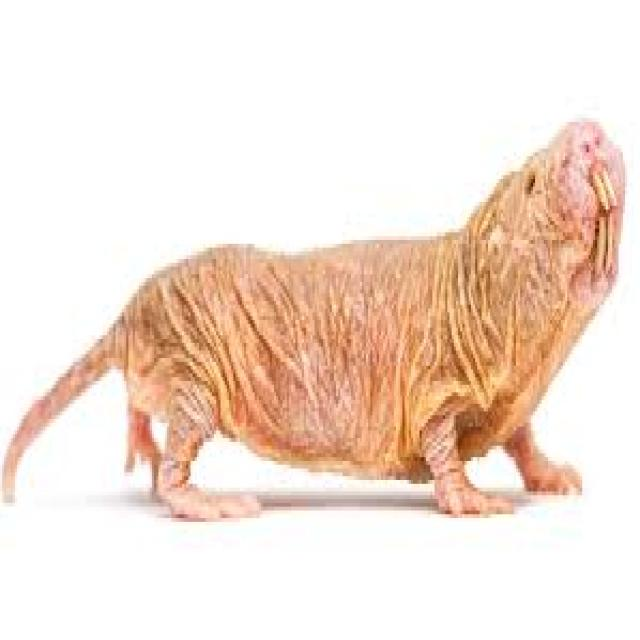rat: (0, 114, 627, 522)
